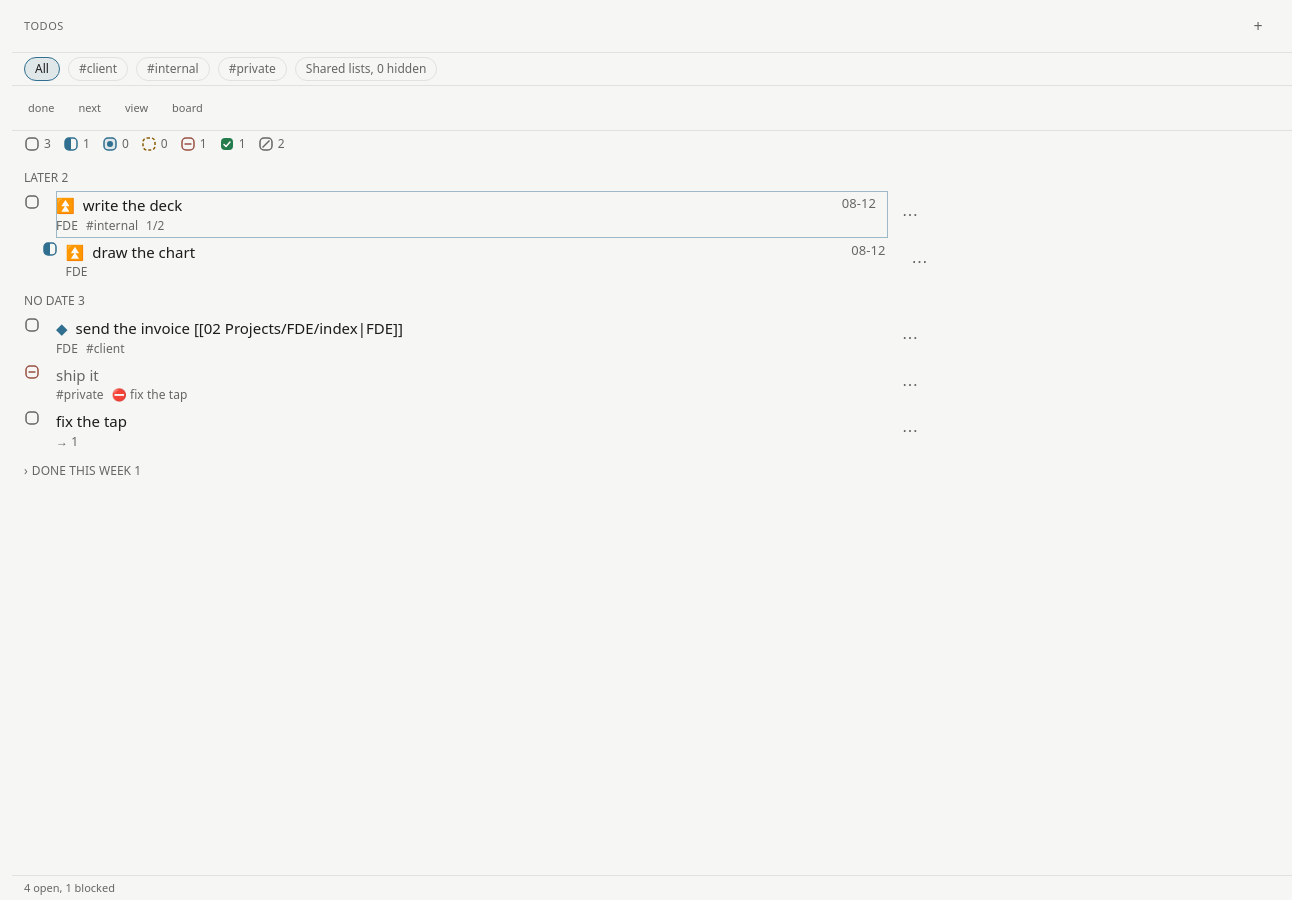
Test: the todo board › #773 A3 enter on a focused more button opens its strip and does not open the cursor card
The width and height of the screenshot is (1292, 900).
Check: the button "⏫ write the deck FDE #internal 1/2 08-12" is shown, box [56, 191, 888, 238]
Press c in the element "todos"
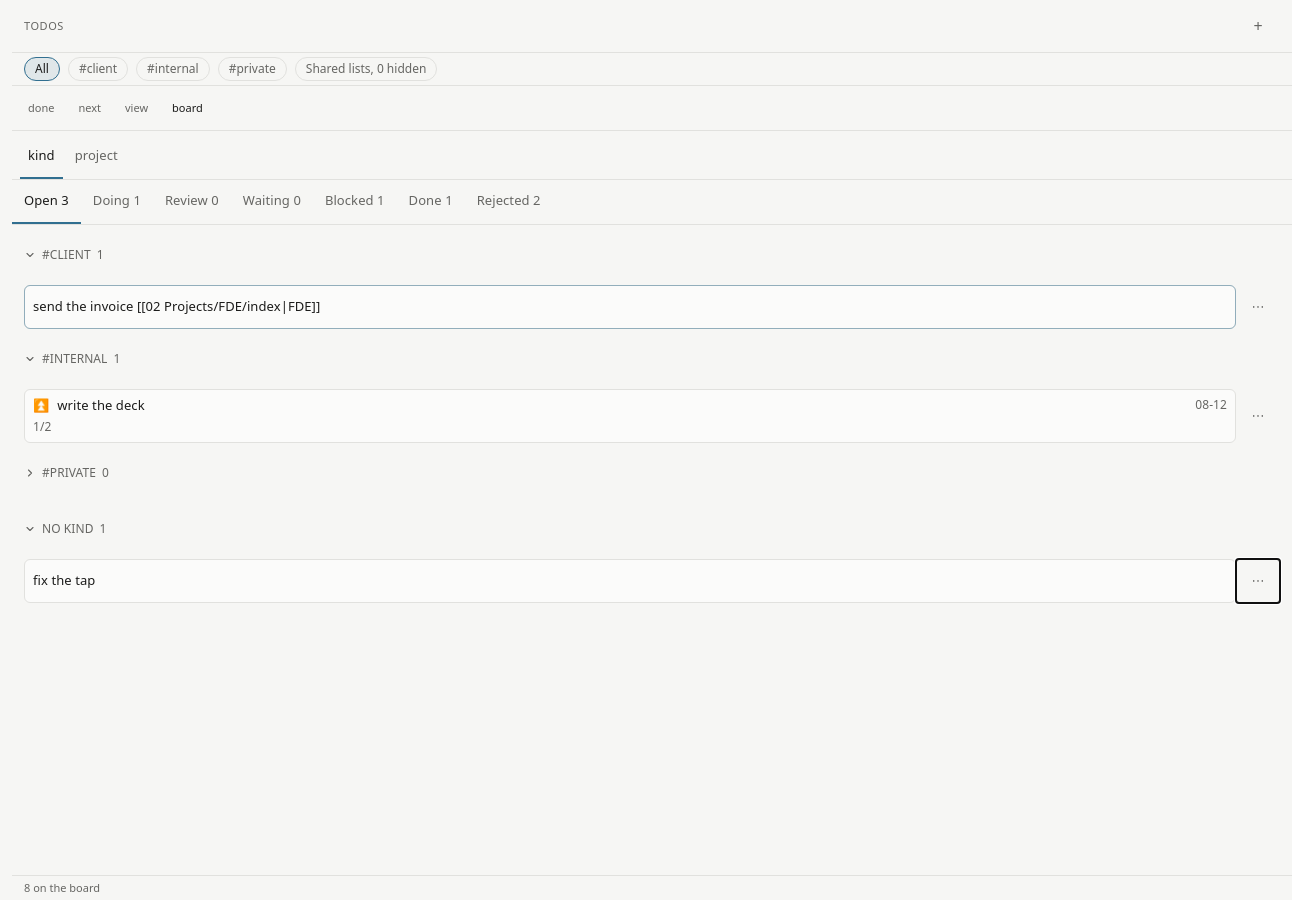
Check: the button with test id "todo-card" is shown, box [24, 285, 1236, 329]
Press Enter in the button named "more for fix the tap", box [1236, 558, 1280, 602]
Click the button named "more for fix the tap" at (1258, 580), box [1236, 558, 1280, 602]
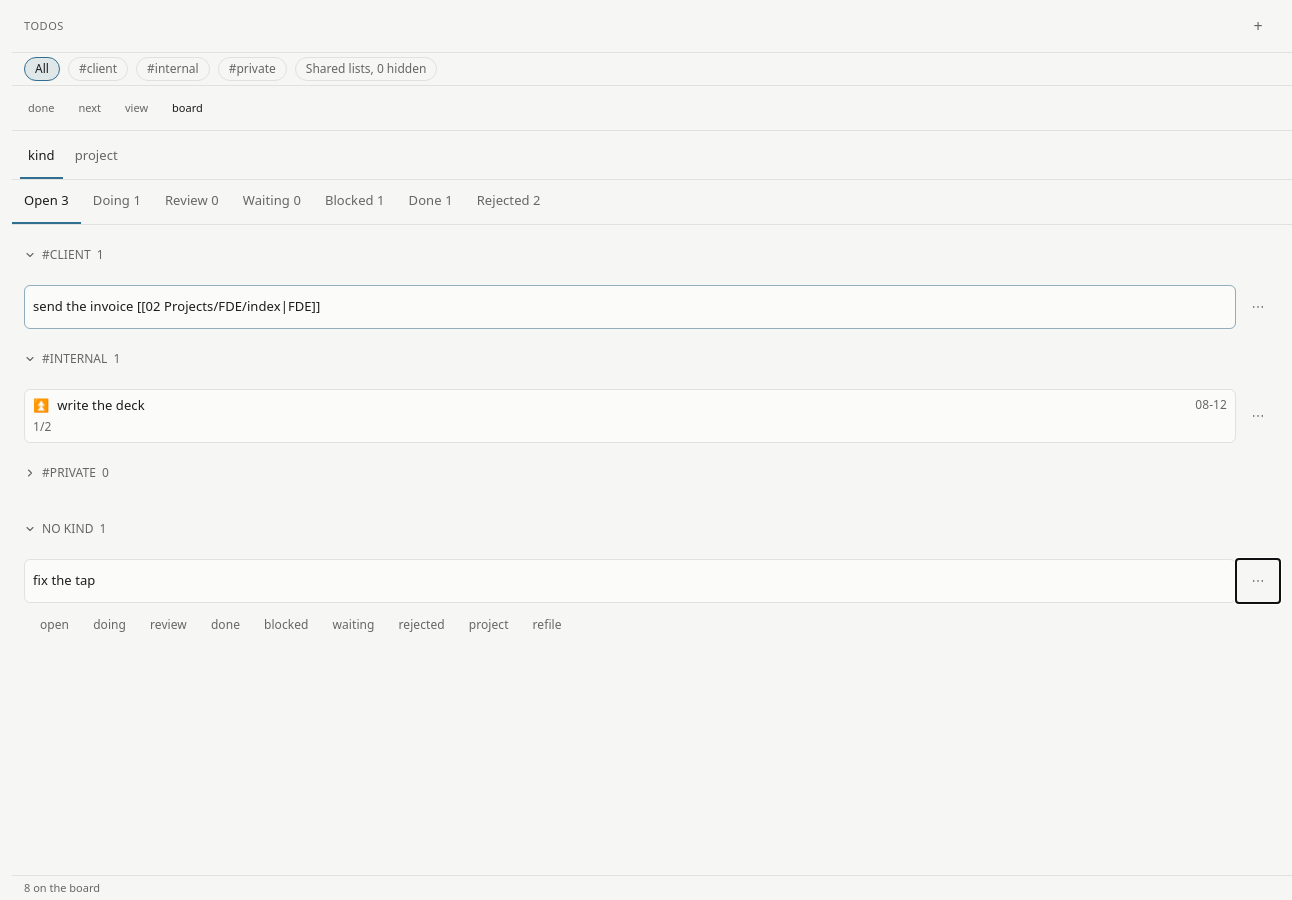
Check: the button with aria-label "done fix the tap" is shown, box [199, 602, 252, 646]
